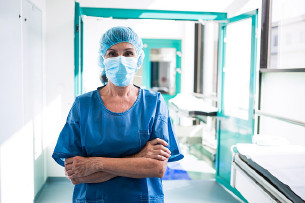face_mask: (103, 42, 136, 86)
